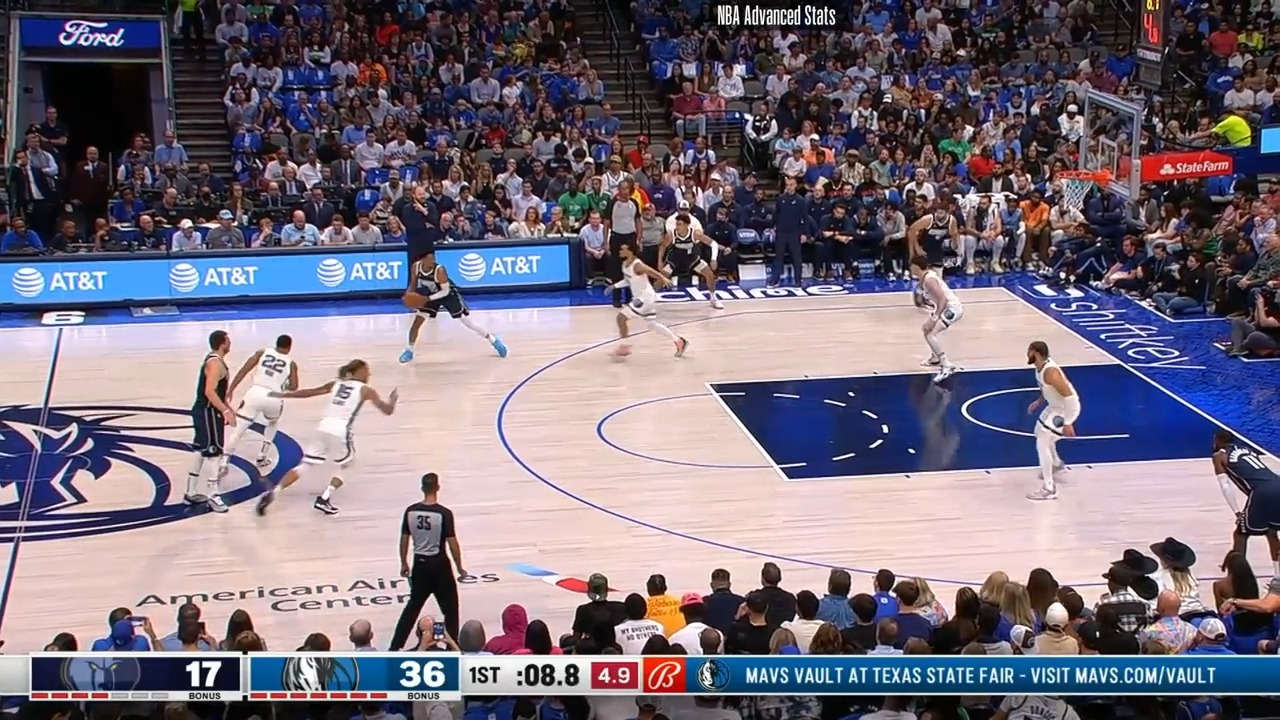net: (1053, 166, 1117, 210)
player: (276, 360, 405, 522), (221, 330, 312, 478), (401, 243, 506, 362), (1209, 426, 1280, 600), (182, 329, 238, 515), (1026, 339, 1088, 504), (606, 247, 689, 361), (908, 254, 969, 380), (665, 212, 728, 312), (910, 205, 957, 262)
referee: (387, 470, 469, 650), (595, 183, 648, 306)
